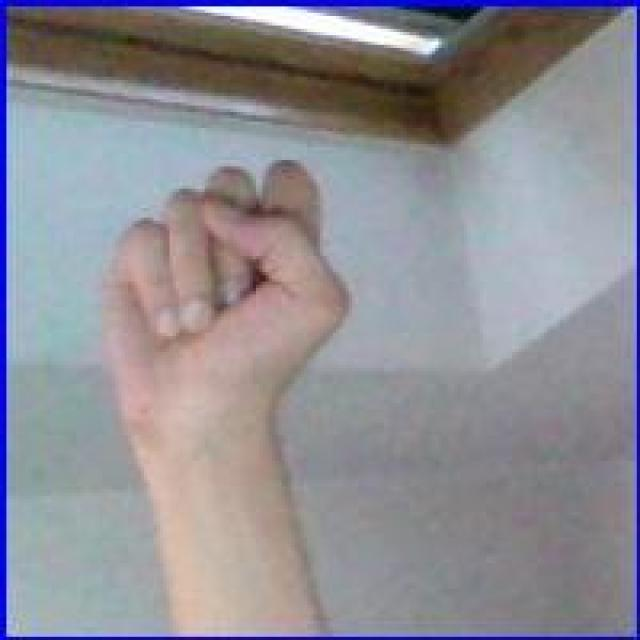S: (93, 154, 352, 435)
